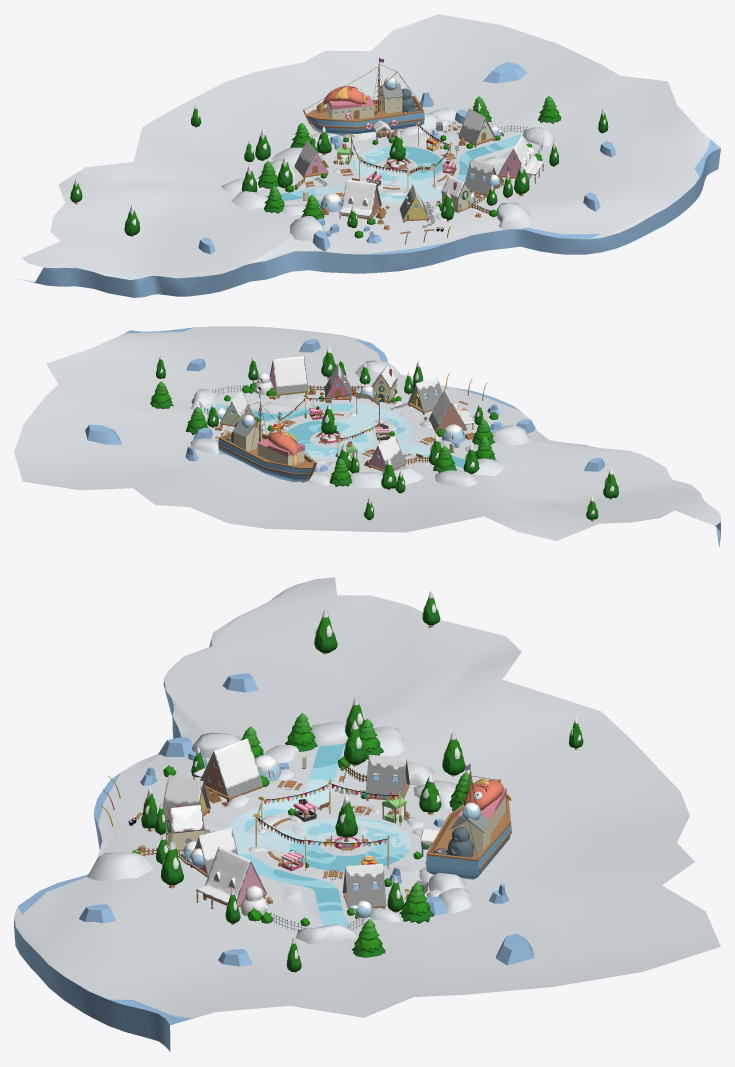
File: Individual_SalmonSettlement_02.fbx
3 views of the same model, one above another, from view 1: azimuth 30°, elevation 25°; view 2: azimuth 150°, elevation 25°; view 3: azimuth 270°, elevation 25° (orthographic). The views are drawn at different scales.
Parts seen in each view (by area): view 1: pasted__Object_Road1, pasted__Ship, pasted__pasted__Foliage_BigFir3, pasted__Building_TriangleHouse, pasted__Building_TriangleHouse5, pasted__Building_TriangleHouse6, pasted__Building_TriangleHouse3, pasted__SnowPatch24, pasted__Building_TriangleHouse4, pasted__Building_TriangleHouse2, pasted__Building_CoffeeShop, pasted__Fish (+5 smaller); view 2: pasted__Object_Road1, pasted__Ship, pasted__pasted__Foliage_BigFir3, pasted__Building_TriangleHouse5, pasted__Building_TriangleHouse, pasted__Building_TriangleHouse2, pasted__Building_TriangleHouse4, pasted__Building_TriangleHouse3, pasted__Building_TriangleHouse6, pasted__Building_CoffeeShop, pasted__SnowPatch22, pasted__SnowPatch15 (+7 smaller); view 3: pasted__Object_Road1, pasted__Ship, pasted__pasted__Foliage_BigFir3, pasted__Building_TriangleHouse, pasted__Building_TriangleHouse5, pasted__Building_TriangleHouse4, pasted__Building_TriangleHouse6, pasted__SnowPatch24, pasted__Building_CoffeeShop, pasted__Building_TriangleHouse2, pasted__Building_TriangleHouse3, pasted__pasted__Foliage_Bush16 (+4 smaller).
Boxes of the visible parts, x1,y1,x2,y2 form: pasted__Object_Road1: [19, 14, 720, 297]; pasted__Ship: [302, 58, 424, 135]; pasted__pasted__Foliage_BigFir3: [258, 95, 561, 220]; pasted__Building_TriangleHouse: [339, 179, 381, 224]; pasted__Building_TriangleHouse5: [498, 136, 544, 183]; pasted__Building_TriangleHouse6: [458, 108, 495, 147]; pasted__Building_TriangleHouse3: [465, 160, 499, 197]; pasted__SnowPatch24: [497, 202, 532, 229]; pasted__Building_TriangleHouse4: [294, 140, 328, 178]; pasted__Building_TriangleHouse2: [399, 184, 429, 222]; pasted__Building_CoffeeShop: [441, 176, 471, 212]; pasted__Fish: [316, 86, 367, 112]; pasted__Object_Road1: [14, 326, 720, 547]; pasted__Ship: [218, 394, 316, 482]; pasted__pasted__Foliage_BigFir3: [150, 381, 496, 486]; pasted__Building_TriangleHouse5: [267, 356, 308, 398]; pasted__Building_TriangleHouse: [429, 389, 473, 432]; pasted__Building_TriangleHouse2: [408, 377, 442, 414]; pasted__Building_TriangleHouse4: [368, 436, 405, 471]; pasted__Building_TriangleHouse3: [324, 363, 351, 401]; pasted__Building_TriangleHouse6: [220, 390, 254, 426]; pasted__Building_CoffeeShop: [372, 365, 397, 402]; pasted__SnowPatch22: [492, 425, 530, 445]; pasted__SnowPatch15: [435, 470, 478, 486]; pasted__Object_Road1: [14, 577, 720, 1051]; pasted__Ship: [425, 763, 511, 879]; pasted__pasted__Foliage_BigFir3: [240, 713, 472, 957]; pasted__Building_TriangleHouse: [192, 738, 263, 802]; pasted__Building_TriangleHouse5: [196, 847, 266, 909]; pasted__Building_TriangleHouse4: [365, 755, 409, 800]; pasted__Building_TriangleHouse6: [342, 863, 386, 909]; pasted__SnowPatch24: [87, 852, 153, 880]; pasted__Building_CoffeeShop: [165, 804, 204, 851]; pasted__Building_TriangleHouse2: [162, 775, 210, 818]; pasted__Building_TriangleHouse3: [189, 828, 238, 877]; pasted__pasted__Foliage_Bush16: [132, 756, 429, 926].
Size of the model in its own units: 14148 by 1873 by 9240.
